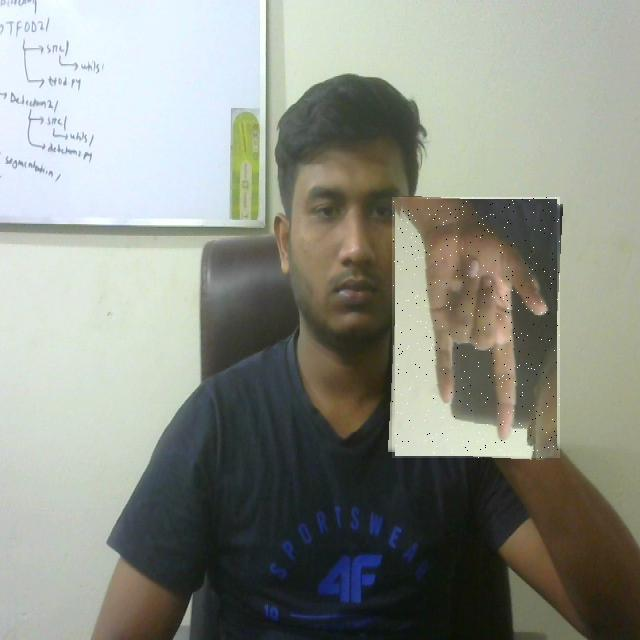IloveYou: (392, 197, 560, 458)
